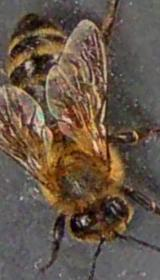varroa_mite: (57, 105, 92, 129)
